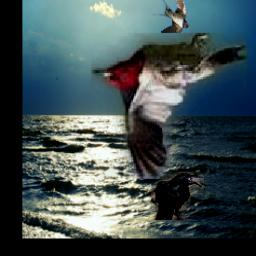Crow: (152, 173, 205, 221)
Swallow: (150, 0, 189, 33)
Woodpecker: (92, 33, 248, 179)
